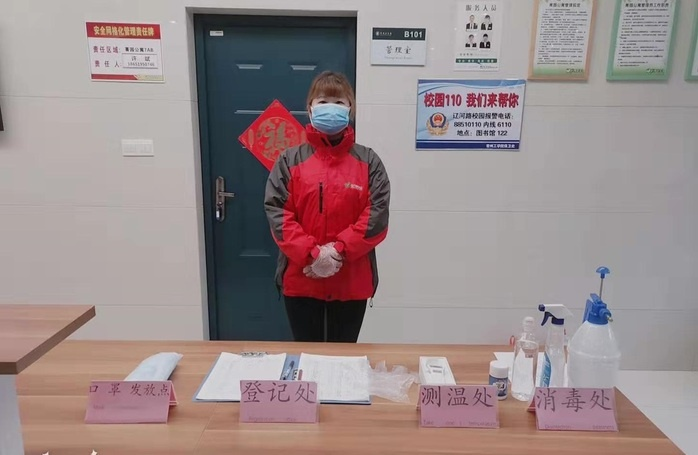correctlyWear: (306, 89, 352, 134)
